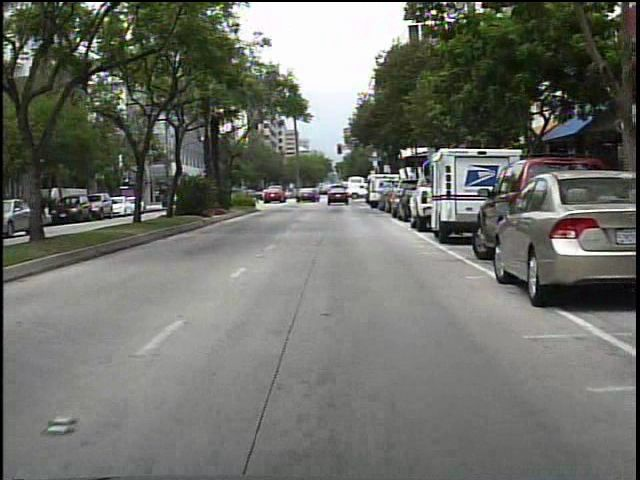person: (325, 183, 338, 203), (287, 183, 295, 202)
